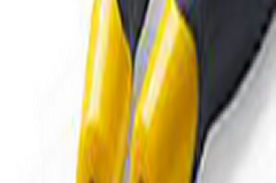Screwdriver: (77, 7, 276, 183)
